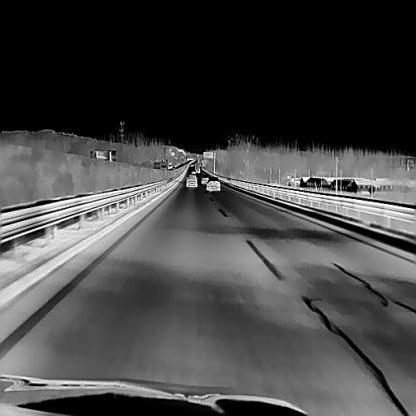car: (205, 175, 220, 191), (185, 173, 197, 187), (201, 174, 209, 184)
